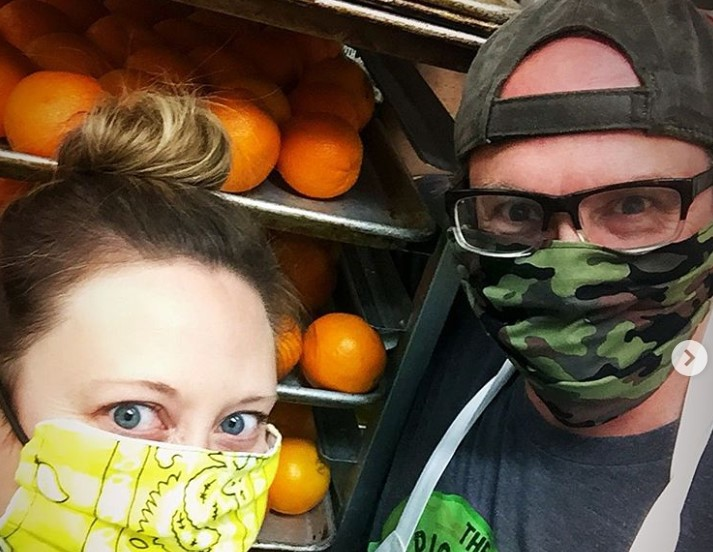face_with_mask: (443, 10, 711, 419), (6, 176, 284, 552)
